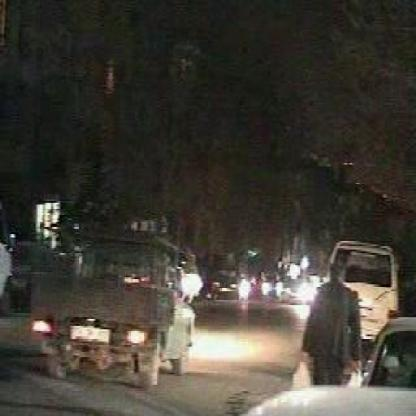other: (242, 260, 324, 304), (198, 331, 258, 364), (175, 261, 208, 300), (27, 306, 56, 342)
